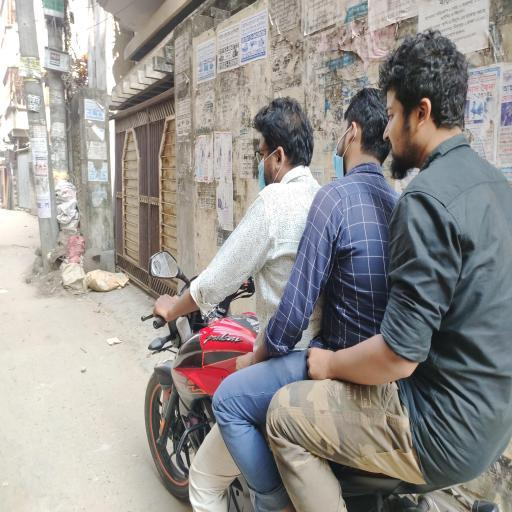no helmet: (249, 65, 343, 248)
triple riding: (142, 37, 512, 512)
